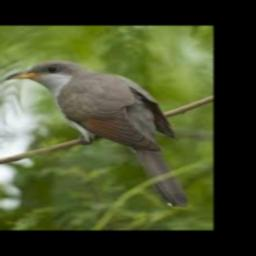Cuckoo: (6, 60, 189, 206)
